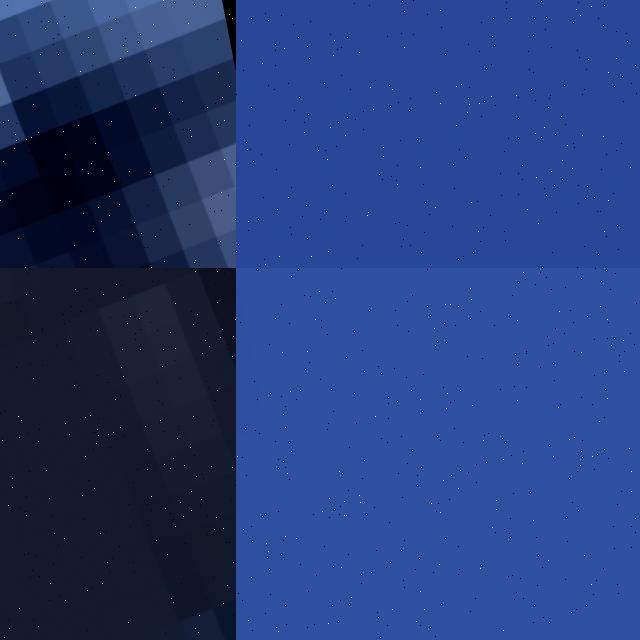drone: (0, 268, 236, 640), (0, 0, 236, 268)
